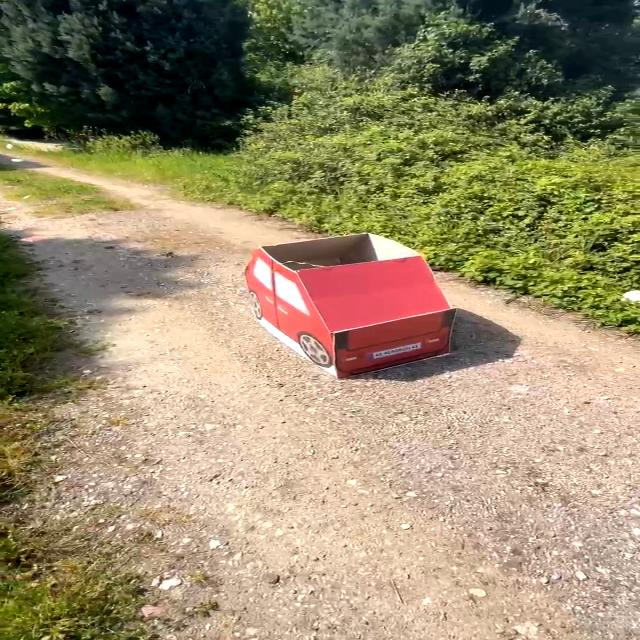red_car: (212, 224, 476, 378)
